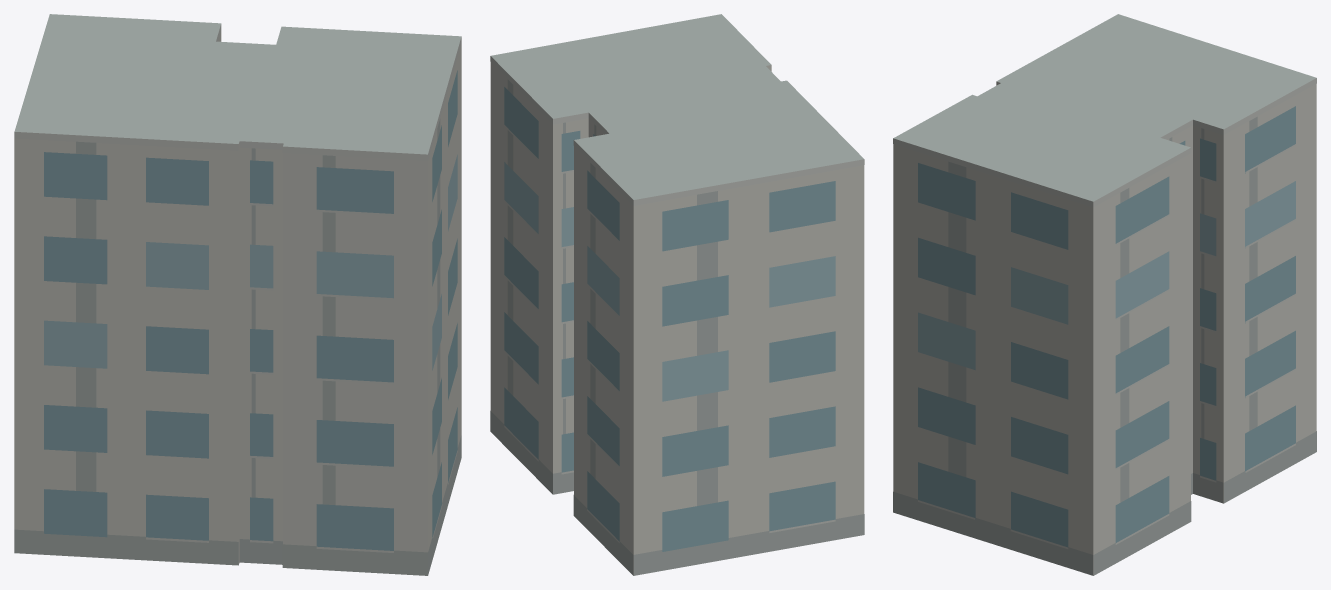
Rendered from survey-upis-32846930.glb.
3 renders of one model, left to right at view 1: azimuth 30°, elevation 25°; view 2: azimuth 150°, elevation 25°; view 3: azimuth 270°, elevation 25°, orthographic. The views are drawn at different scales.
Visible parts, largest first — view 1: survey-upis-32846930.tmp; view 2: survey-upis-32846930.tmp; view 3: survey-upis-32846930.tmp.
Boxes of the visible parts, box(x1,y1,x2,y2) form: survey-upis-32846930.tmp: box(14, 14, 461, 575); survey-upis-32846930.tmp: box(490, 14, 864, 575); survey-upis-32846930.tmp: box(893, 14, 1316, 575).
Size of the model in its own units: 16.9 by 15.7 by 16.12.
